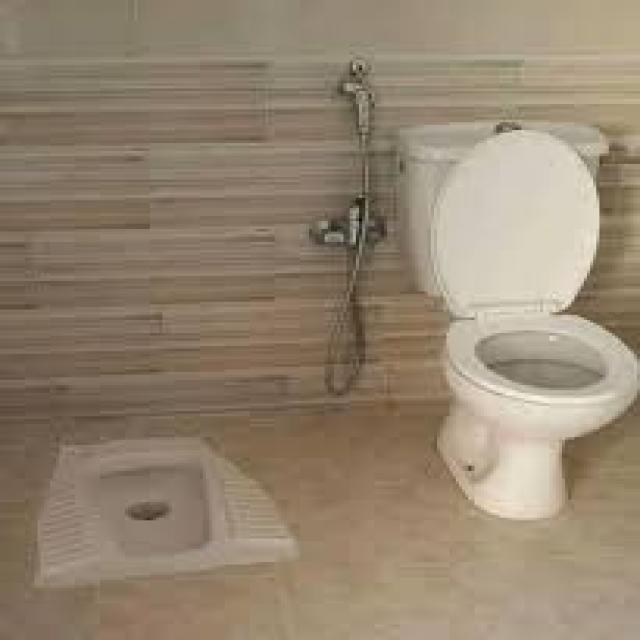toilet: (445, 238, 640, 480), (58, 434, 300, 595)
